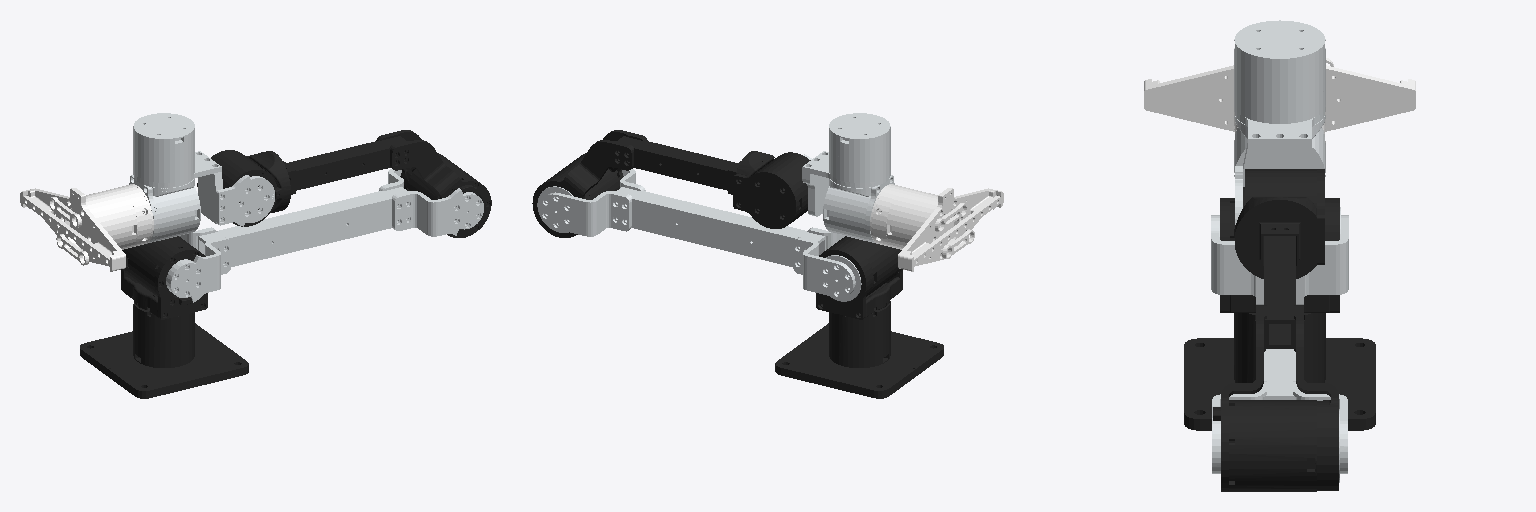
URDF robot description (DM9_URDF_2):
<?xml version="1.0" encoding="utf-8"?>
<!-- This URDF was automatically created by SolidWorks to URDF Exporter! Originally created by Stephen Brawner (brawner@gmail.com) 
     Commit Version: 1.6.0-4-g7f85cfe  Build Version: 1.6.7995.38578
     For more information, please see http://wiki.ros.org/sw_urdf_exporter -->
<robot
  name="DM9_URDF_2">
  <link
    name="base_link">
    <inertial>
      <origin
        xyz="-0.008368096691399 -0.0126140487044493 0.0133752450793765"
        rpy="0 0 0" />
      <mass
        value="0.252723207330538" />
      <inertia
        ixx="0.00019714952606302"
        ixy="1.99989405123299E-20"
        ixz="-9.98261328288589E-10"
        iyy="0.000196783096032312"
        iyz="1.5285206995529E-20"
        izz="0.000321676090632885" />
    </inertial>
    <visual>
      <origin
        xyz="0 0 0"
        rpy="0 0 0" />
      <geometry>
        <mesh
          filename="package://DM9_URDF_2/meshes/base_link.STL" />
      </geometry>
      <material
        name="">
        <color
          rgba="0.2 0.2 0.2 1" />
      </material>
    </visual>
    <collision>
      <origin
        xyz="0 0 0"
        rpy="0 0 0" />
      <geometry>
        <mesh
          filename="package://DM9_URDF_2/meshes/base_link.STL" />
      </geometry>
    </collision>
  </link>
  <link
    name="1_Link">
    <inertial>
      <origin
        xyz="2.18539137934771E-05 -0.00138484009826332 0.0609218064340935"
        rpy="0 0 0" />
      <mass
        value="0.200583675170614" />
      <inertia
        ixx="8.5314558644509E-05"
        ixy="2.31400694314962E-12"
        ixz="1.57179660798204E-08"
        iyy="8.679303996411E-05"
        iyz="4.12092522221723E-07"
        izz="8.94055500614995E-05" />
    </inertial>
    <visual>
      <origin
        xyz="0 0 0"
        rpy="0 0 0" />
      <geometry>
        <mesh
          filename="package://DM9_URDF_2/meshes/1_Link.STL" />
      </geometry>
      <material
        name="">
        <color
          rgba="0.2 0.2 0.2 1" />
      </material>
    </visual>
    <collision>
      <origin
        xyz="0 0 0"
        rpy="0 0 0" />
      <geometry>
        <mesh
          filename="package://DM9_URDF_2/meshes/1_Link.STL" />
      </geometry>
    </collision>
  </link>
  <joint
    name="1_joint"
    type="revolute">
    <origin
      xyz="-0.0083638 -0.012614 0.02715"
      rpy="0 0 0" />
    <parent
      link="base_link" />
    <child
      link="1_Link" />
    <axis
      xyz="0 0 1" />
    <limit
      lower="-2.967"
      upper="2.967"
      effort="9"
      velocity="0" />
  </joint>
  <link
    name="2_Link">
    <inertial>
      <origin
        xyz="0.14885847621143 -2.77555756156289E-17 0.000796112034123508"
        rpy="0 0 0" />
      <mass
        value="0.369258099879868" />
      <inertia
        ixx="7.374044283919E-05"
        ixy="-3.14828073481719E-07"
        ixz="1.90148643987135E-07"
        iyy="0.000720408449651418"
        iyz="6.72588294284137E-10"
        izz="0.00072410411722261" />
    </inertial>
    <visual>
      <origin
        xyz="0 0 0"
        rpy="0 0 0" />
      <geometry>
        <mesh
          filename="package://DM9_URDF_2/meshes/2_Link.STL" />
      </geometry>
      <material
        name="">
        <color
          rgba="0.898039215686275 0.917647058823529 0.929411764705882 1" />
      </material>
    </visual>
    <collision>
      <origin
        xyz="0 0 0"
        rpy="0 0 0" />
      <geometry>
        <mesh
          filename="package://DM9_URDF_2/meshes/2_Link.STL" />
      </geometry>
    </collision>
  </link>
  <joint
    name="2_joint"
    type="revolute">
    <origin
      xyz="0 0 0.066099"
      rpy="1.5708 0 0" />
    <parent
      link="1_Link" />
    <child
      link="2_Link" />
    <axis
      xyz="0 0 1" />
    <limit
      lower="0"
      upper="3.4"
      effort="9"
      velocity="0" />
  </joint>
  <link
    name="3_Link">
    <inertial>
      <origin
        xyz="0.0338556931894844 0.0959468756558594 -0.000461494863934989"
        rpy="0 0 0" />
      <mass
        value="0.520123335747501" />
      <inertia
        ixx="0.000299379389865283"
        ixy="-4.22741977692687E-05"
        ixz="-5.44203043649727E-07"
        iyy="0.000224468966592394"
        iyz="-3.12240468084187E-07"
        izz="0.000381641125766246" />
    </inertial>
    <visual>
      <origin
        xyz="0 0 0"
        rpy="0 0 0" />
      <geometry>
        <mesh
          filename="package://DM9_URDF_2/meshes/3_Link.STL" />
      </geometry>
      <material
        name="">
        <color
          rgba="0.2 0.2 0.2 1" />
      </material>
    </visual>
    <collision>
      <origin
        xyz="0 0 0"
        rpy="0 0 0" />
      <geometry>
        <mesh
          filename="package://DM9_URDF_2/meshes/3_Link.STL" />
      </geometry>
    </collision>
  </link>
  <joint
    name="3_joint"
    type="revolute">
    <origin
      xyz="0.3 0 0"
      rpy="0 0 1.5708" />
    <parent
      link="2_Link" />
    <child
      link="3_Link" />
    <axis
      xyz="0 0 -1" />
    <limit
      lower="0"
      upper="3.4"
      effort="9"
      velocity="0" />
  </joint>
  <link
    name="4_Link">
    <inertial>
      <origin
        xyz="0.0399778968472473 0.0596207742194489 0.00430108014575323"
        rpy="0 0 0" />
      <mass
        value="0.208983564278954" />
      <inertia
        ixx="7.84420680749253E-05"
        ixy="-2.61127711965804E-08"
        ixz="1.20899551298064E-06"
        iyy="6.51738425723061E-05"
        iyz="1.42237962138927E-08"
        izz="7.62948248482108E-05" />
    </inertial>
    <visual>
      <origin
        xyz="0 0 0"
        rpy="0 0 0" />
      <geometry>
        <mesh
          filename="package://DM9_URDF_2/meshes/4_Link.STL" />
      </geometry>
      <material
        name="">
        <color
          rgba="0.898039215686275 0.917647058823529 0.929411764705882 1" />
      </material>
    </visual>
    <collision>
      <origin
        xyz="0 0 0"
        rpy="0 0 0" />
      <geometry>
        <mesh
          filename="package://DM9_URDF_2/meshes/4_Link.STL" />
      </geometry>
    </collision>
  </link>
  <joint
    name="4_joint"
    type="revolute">
    <origin
      xyz="0.057 0.22 0"
      rpy="0 0 0" />
    <parent
      link="3_Link" />
    <child
      link="4_Link" />
    <axis
      xyz="0 0 1" />
    <limit
      lower="-1.7"
      upper="1.7"
      effort="3"
      velocity="0" />
  </joint>
  <link
    name="5_Link">
    <inertial>
      <origin
        xyz="8.10081111066868E-06 0.0020520626716895 -0.0521886423851795"
        rpy="0 0 0" />
      <mass
        value="0.179445569219241" />
      <inertia
        ixx="5.70110274426118E-05"
        ixy="-1.12762691595134E-08"
        ixz="-6.11255328562706E-09"
        iyy="6.79138347142357E-05"
        iyz="-8.32576527053588E-08"
        izz="6.45874586861394E-05" />
    </inertial>
    <visual>
      <origin
        xyz="0 0 0"
        rpy="0 0 0" />
      <geometry>
        <mesh
          filename="package://DM9_URDF_2/meshes/5_Link.STL" />
      </geometry>
      <material
        name="">
        <color
          rgba="0.898039215686275 0.917647058823529 0.929411764705882 1" />
      </material>
    </visual>
    <collision>
      <origin
        xyz="0 0 0"
        rpy="0 0 0" />
      <geometry>
        <mesh
          filename="package://DM9_URDF_2/meshes/5_Link.STL" />
      </geometry>
    </collision>
  </link>
  <joint
    name="5_joint"
    type="revolute">
    <origin
      xyz="0.06076 0.08 0"
      rpy="0 1.5708 0" />
    <parent
      link="4_Link" />
    <child
      link="5_Link" />
    <axis
      xyz="0 0 -1" />
    <limit
      lower="-1.7"
      upper="1.7"
      effort="3"
      velocity="0" />
  </joint>
  <link
    name="6_Link">
    <inertial>
      <origin
        xyz="2.61678060383547E-07 -0.000160331790445917 0.0661916773313714"
        rpy="0 0 0" />
      <mass
        value="0.185190842896817" />
      <inertia
        ixx="5.67090653807396E-05"
        ixy="6.90914223521367E-10"
        ixz="7.68768140386661E-11"
        iyy="0.000134171765401387"
        iyz="-1.62429783594177E-08"
        izz="0.000150170252478745" />
    </inertial>
    <visual>
      <origin
        xyz="0 0 0"
        rpy="0 0 0" />
      <geometry>
        <mesh
          filename="package://DM9_URDF_2/meshes/6_Link.STL" />
      </geometry>
      <material
        name="">
        <color
          rgba="1 1 1 1" />
      </material>
    </visual>
    <collision>
      <origin
        xyz="0 0 0"
        rpy="0 0 0" />
      <geometry>
        <mesh
          filename="package://DM9_URDF_2/meshes/6_Link.STL" />
      </geometry>
    </collision>
  </link>
  <joint
    name="6_joint"
    type="revolute">
    <origin
      xyz="0 -0.00025999 -0.06076"
      rpy="-1.5708 0 0" />
    <parent
      link="5_Link" />
    <child
      link="6_Link" />
    <axis
      xyz="0 0 1" />
    <limit
      lower="-1.57"
      upper="1.57"
      effort="3"
      velocity="0" />
  </joint>
  <link
    name="7_Link">
    <inertial>
      <origin
        xyz="1.44155520853673E-15 -5.55111512312578E-17 0.0280831924526071"
        rpy="0 0 0" />
      <mass
        value="0.00785617553365437" />
      <inertia
        ixx="7.7669964572834E-07"
        ixy="5.04534561477838E-07"
        ixz="2.18998072741738E-21"
        iyy="1.2907228718292E-06"
        iyz="-1.01043479174803E-21"
        izz="1.98953989913867E-06" />
    </inertial>
    <visual>
      <origin
        xyz="0 0 0"
        rpy="0 0 0" />
      <geometry>
        <mesh
          filename="package://DM9_URDF_2/meshes/7_Link.STL" />
      </geometry>
      <material
        name="">
        <color
          rgba="1 1 1 1" />
      </material>
    </visual>
    <collision>
      <origin
        xyz="0 0 0"
        rpy="0 0 0" />
      <geometry>
        <mesh
          filename="package://DM9_URDF_2/meshes/7_Link.STL" />
      </geometry>
    </collision>
  </link>
  <joint
    name="7_joint"
    type="revolute">
    <origin
      xyz="0 0 0.0675"
      rpy="0 0 0" />
    <parent
      link="6_Link" />
    <child
      link="7_Link" />
    <axis
      xyz="0 0 -1" />
    <limit
      lower="0"
      upper="2.09"
      effort="3"
      velocity="0" />
  </joint>
  <link
    name="8_2_Link">
    <inertial>
      <origin
        xyz="-0.0205252091275709 0.000360796890799681 0"
        rpy="0 0 0" />
      <mass
        value="0.00114210410733436" />
      <inertia
        ixx="1.83784399812581E-08"
        ixy="4.18367561506862E-09"
        ixz="2.36167625129874E-23"
        iyy="2.56308104903477E-07"
        iyz="2.84161887391578E-24"
        izz="2.71640933931844E-07" />
    </inertial>
    <visual>
      <origin
        xyz="0 0 0"
        rpy="0 0 0" />
      <geometry>
        <mesh
          filename="package://DM9_URDF_2/meshes/8_2_Link.STL" />
      </geometry>
      <material
        name="">
        <color
          rgba="1 1 1 1" />
      </material>
    </visual>
    <collision>
      <origin
        xyz="0 0 0"
        rpy="0 0 0" />
      <geometry>
        <mesh
          filename="package://DM9_URDF_2/meshes/8_2_Link.STL" />
      </geometry>
    </collision>
  </link> 
  <joint
    name="8_2_joint"
    type="continuous">
    <origin
      xyz="-0.027284 0.016721 0.03426"
      rpy="0 0 -3.1416" />
    <parent
      link="7_Link" />
    <child
      link="8_2_Link" />
    <axis
      xyz="0 0 1" />
    <limit
      lower="0"
      upper="0"
      effort="0"
      velocity="0" />
  </joint> 
  <link
    name="9_2_Link">
    <inertial>
      <origin
        xyz="0.0050375849504161 0.0152887868802148 0.0269270787090128"
        rpy="0 0 0" />
      <mass
        value="0.0307234524947675" />
      <inertia
        ixx="1.85961243074532E-05"
        ixy="-6.22002015679773E-08"
        ixz="-1.99324773253696E-06"
        iyy="1.39767067024046E-05"
        iyz="-3.64939442351696E-07"
        izz="7.3344294016311E-06" />
    </inertial>
    <visual>
      <origin
        xyz="0 0 0"
        rpy="0 0 0" />
      <geometry>
        <mesh
          filename="package://DM9_URDF_2/meshes/9_2_Link.STL" />
      </geometry>
      <material
        name="">
        <color
          rgba="1 1 1 1" />
      </material>
    </visual>
    <collision>
      <origin
        xyz="0 0 0"
        rpy="0 0 0" />
      <geometry>
        <mesh
          filename="package://DM9_URDF_2/meshes/9_2_Link.STL" />
      </geometry>
    </collision>
  </link>
  <joint
    name="9_2_joint"
    type="continuous">
    <origin
      xyz="-0.041034 0.0007213 0"
      rpy="0 0 0" />
    <parent
      link="8_2_Link" />
    <child
      link="9_2_Link" />
    <axis
      xyz="0 0 1" />
  </joint> 
   <link
    name="8_1_Link">
    <inertial>
      <origin
        xyz="0.0205084517795367 -0.000360502326245765 0"
        rpy="0 0 0" />
      <mass
        value="0.00114210410733437" />
      <inertia
        ixx="1.83784399812582E-08"
        ixy="4.18367561506803E-09"
        ixz="8.4533140154123E-23"
        iyy="2.56308104903478E-07"
        iyz="-3.41477580077973E-24"
        izz="2.71640933931844E-07" />
    </inertial>
    <visual>
      <origin
        xyz="0 0 0"
        rpy="0 0 0" />
      <geometry>
        <mesh
          filename="package://DM9_URDF_2/meshes/8_1_Link.STL" />
      </geometry>
      <material
        name="">
        <color
          rgba="1 1 1 1" />
      </material>
    </visual>
    <collision>
      <origin
        xyz="0 0 0"
        rpy="0 0 0" />
      <geometry>
        <mesh
          filename="package://DM9_URDF_2/meshes/8_1_Link.STL" />
      </geometry>
    </collision>
  </link> 
  <joint
    name="8_1_joint"
    type="continuous">
    <origin
      xyz="0.027284 -0.016721 0.03426"
      rpy="0 0 -3.1416" />
    <parent
      link="7_Link" />
    <child
      link="8_1_Link" />
    <axis
      xyz="0 0 1" />
  </joint>
  <link
    name="9_1_Link">
    <inertial>
      <origin
        xyz="-0.00496335181906055 -0.0152909647014169 0.0266941599743406"
        rpy="0 0 0" />
      <mass
        value="0.0311589338838378" />
      <inertia
        ixx="1.87650014699305E-05"
        ixy="-6.22002916550755E-08"
        ixz="2.03931487044733E-06"
        iyy="1.41594054628793E-05"
        iyz="3.66905622615511E-07"
        izz="7.38377352271896E-06" />
    </inertial>
    <visual>
      <origin
        xyz="0 0 0"
        rpy="0 0 0" />
      <geometry>
        <mesh
          filename="package://DM9_URDF_2/meshes/9_1_Link.STL" />
      </geometry>
      <material
        name="">
        <color
          rgba="1 1 1 1" />
      </material>
    </visual>
    <collision>
      <origin
        xyz="0 0 0"
        rpy="0 0 0" />
      <geometry>
        <mesh
          filename="package://DM9_URDF_2/meshes/9_1_Link.STL" />
      </geometry>
    </collision>
  </link>
  <joint
    name="9_1_joint"
    type="continuous">
    <origin
      xyz="0.041034 -0.0007213 0"
      rpy="0 0 0" />
    <parent
      link="8_1_Link" />
    <child
      link="9_1_Link" />
    <axis
      xyz="0 0 1" />
  </joint> 
   <!-- <joint
    name="8_joint"
    type="prismatic">
    <origin
      xyz="0.0138 0.016 0.10456"
      rpy="0 0 0" />
    <parent
      link="6_Link" />
    <child
      link="9_1_Link" />
    <axis
      xyz="1 0 0" />
    <limit
      lower="0"
      upper="0"
      effort="0"
      velocity="0" />
  </joint>
  <joint
    name="9_joint"
    type="prismatic">
    <origin
      xyz="-0.0138 -0.016 0.10456"
      rpy="0 0 0" />
    <parent
      link="6_Link" />
    <child
      link="9_2_Link" />
    <axis
      xyz="1 0 0" />
    <limit
      lower="0"
      upper="0"
      effort="0"
      velocity="0" />
  </joint>  -->
</robot>

--- What the picture shows (computed from the rendered views, not written in the file) ---
The picture shows the robot from 3 angles, left to right: view 1: azimuth 30°, elevation 25°; view 2: azimuth 150°, elevation 25°; view 3: azimuth 270°, elevation 25°; orthographic projection.
Model DM9_URDF_2 with 12 links and 11 joints (7 revolute, 4 continuous), rooted at base_link, posed every joint at zero.
Links seen in each view (by area): view 1: 2_Link, 3_Link, base_link, 4_Link, 6_Link, 1_Link, 5_Link; view 2: 2_Link, 3_Link, base_link, 6_Link, 4_Link, 1_Link, 5_Link; view 3: 3_Link, 4_Link, base_link, 6_Link, 2_Link, 1_Link, 5_Link.
Boxes of the visible links, x1,y1,x2,y2 form: 2_Link: (166, 169, 483, 302); 3_Link: (197, 130, 491, 237); base_link: (80, 303, 248, 398); 4_Link: (133, 113, 274, 226); 6_Link: (20, 184, 153, 271); 1_Link: (121, 236, 207, 319); 5_Link: (129, 175, 200, 243); 2_Link: (537, 169, 861, 301); 3_Link: (532, 130, 810, 237); base_link: (775, 301, 943, 398); 6_Link: (870, 184, 1003, 271); 4_Link: (802, 113, 890, 216); 1_Link: (816, 236, 902, 319); 5_Link: (823, 175, 894, 243); 3_Link: (1213, 169, 1338, 491); 4_Link: (1234, 20, 1325, 250); base_link: (1184, 313, 1375, 430); 6_Link: (1144, 65, 1415, 142); 2_Link: (1211, 207, 1348, 482); 1_Link: (1220, 198, 1339, 312); 5_Link: (1234, 115, 1325, 176).
Size in the robot's own frame: 0.433 by 0.17 by 0.242 metres.
9 mesh visuals loaded from 12 distinct referenced files (9 binary STL); not drawn: 3 (reference not matched to a file when rendering).
